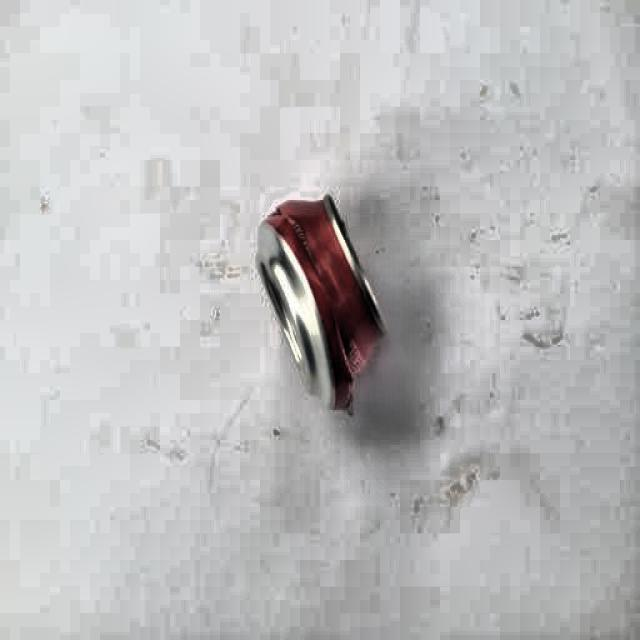metal: (251, 193, 392, 415)
